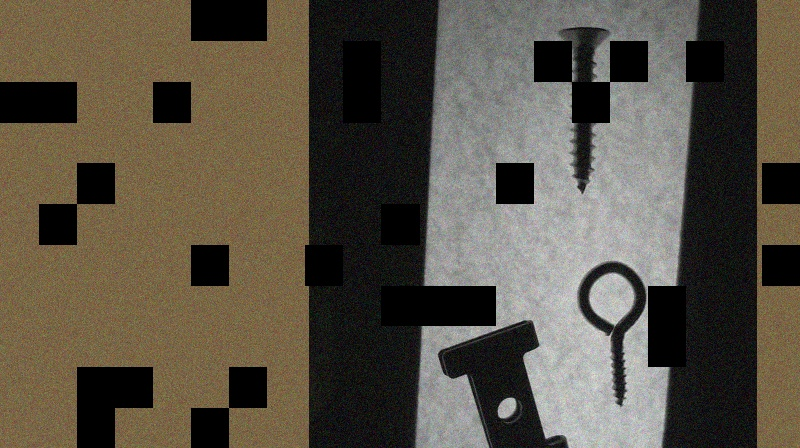O001: (573, 255, 648, 410)
O002: (434, 316, 574, 447)
S001: (550, 22, 611, 196)
